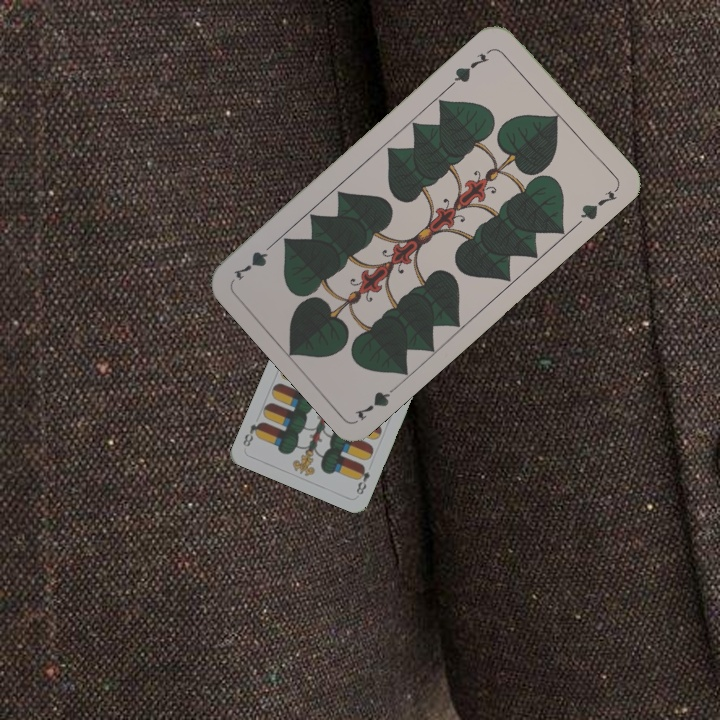E8: (352, 461, 373, 497)
G7: (350, 378, 404, 423), (447, 49, 492, 89)
